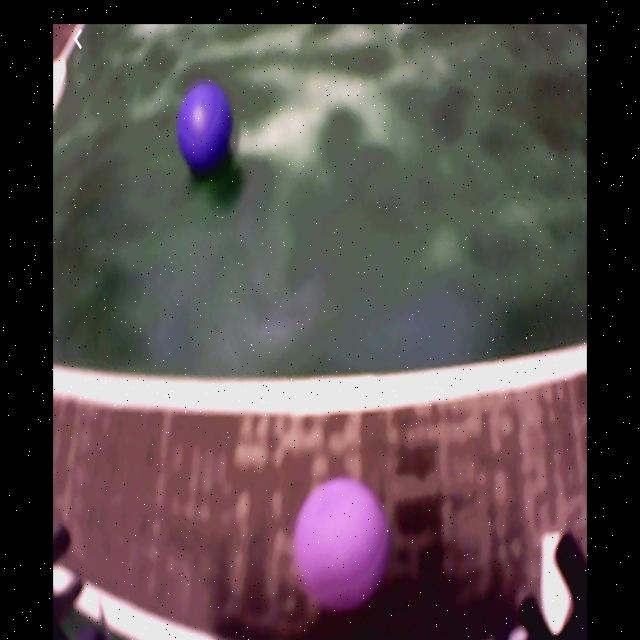ball: (293, 476, 388, 612), (175, 80, 233, 174)
